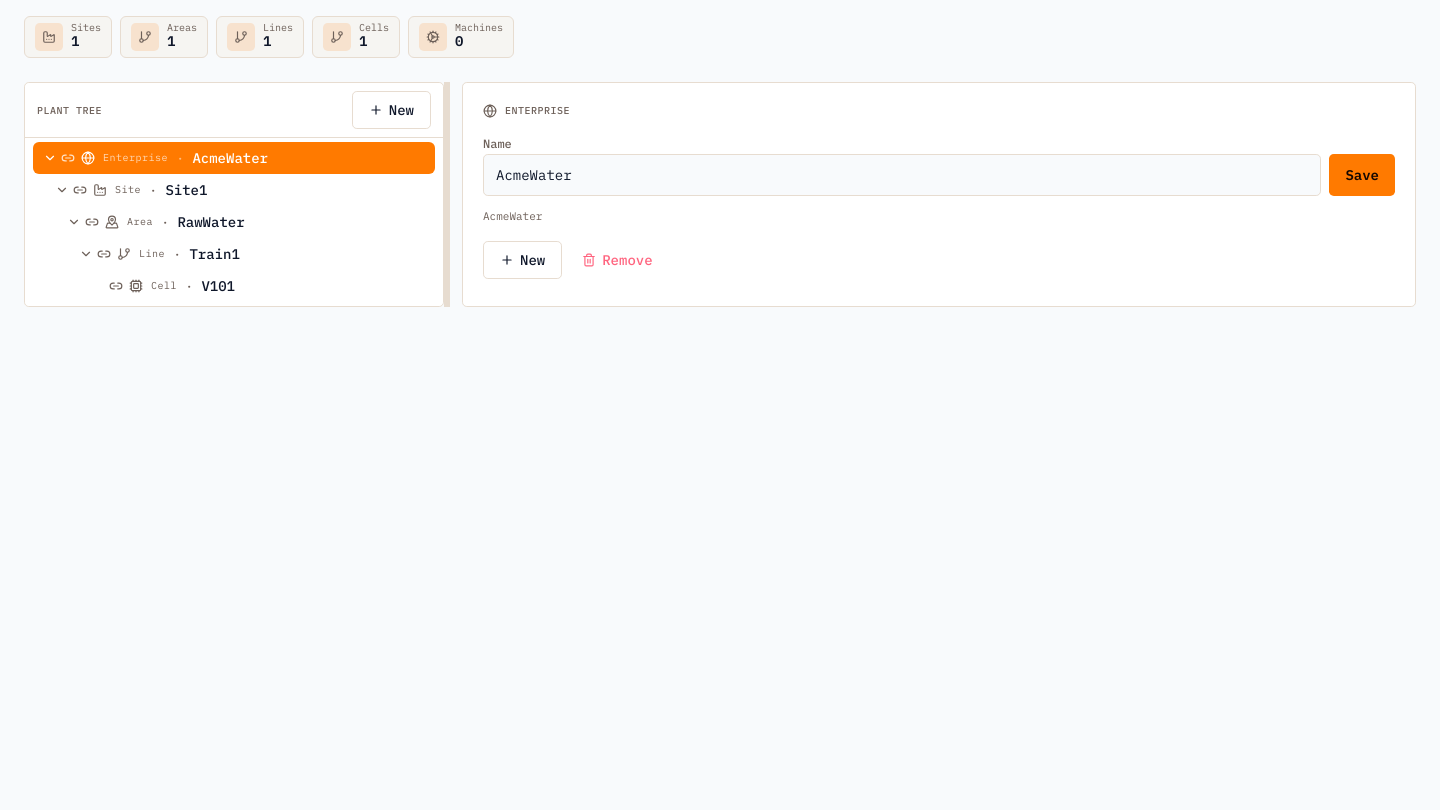
Test: the plant hierarchy editor › opens a signal picker from the control in front of a tree node without changing selection
Check: the field labelled "Name" holds "AcmeWater", box [483, 154, 1321, 196]
Click the button named "Attach signals to Cell V101" at (116, 286), box [107, 277, 125, 295]
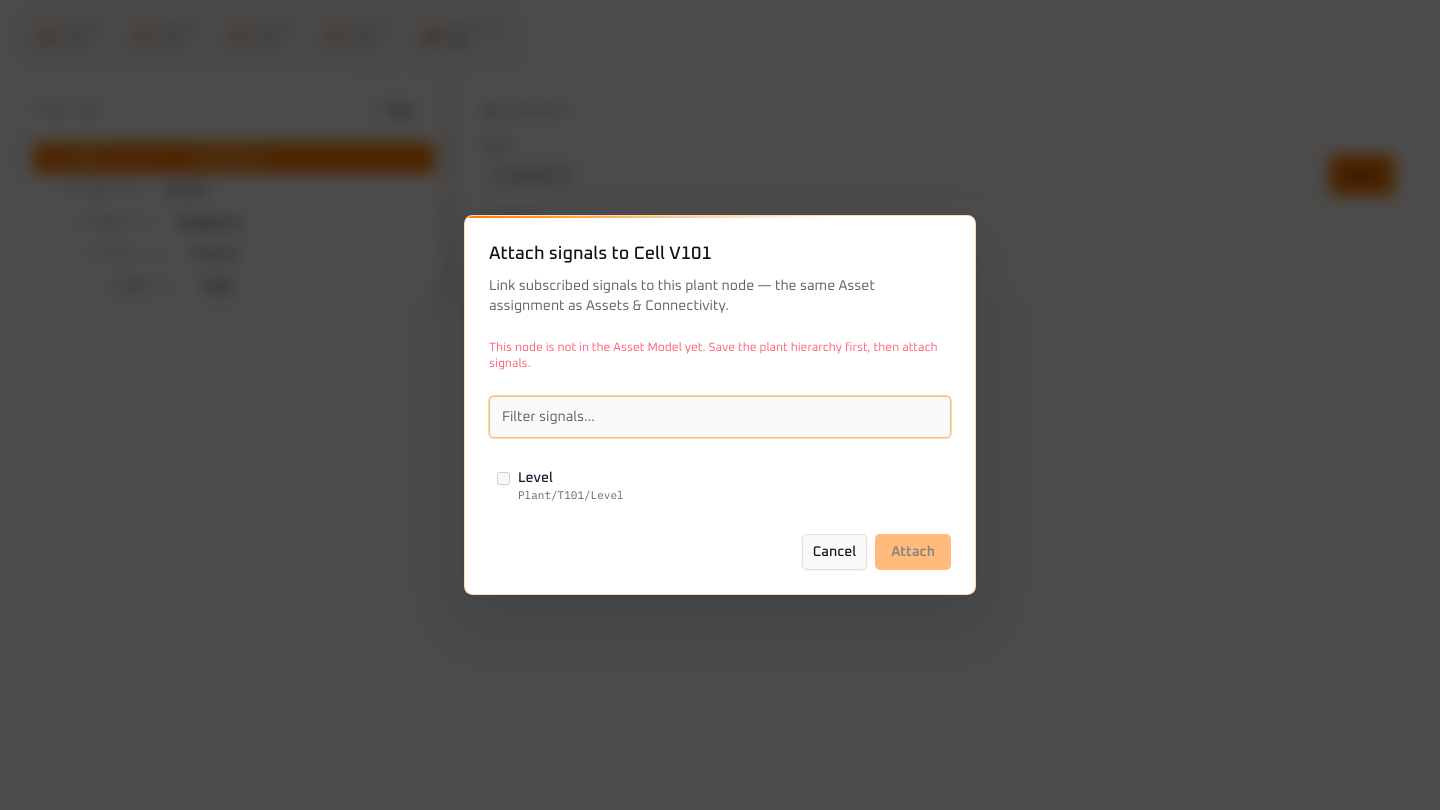
Check: the dialog "Attach signals to Cell V101" is shown, box [464, 215, 976, 595]
Check: the checkbox labelled "Level Plant/T101/Level" is shown, box [497, 472, 510, 485]
Check: the text "Plant/T101/Level" is shown, box [518, 488, 624, 502]
